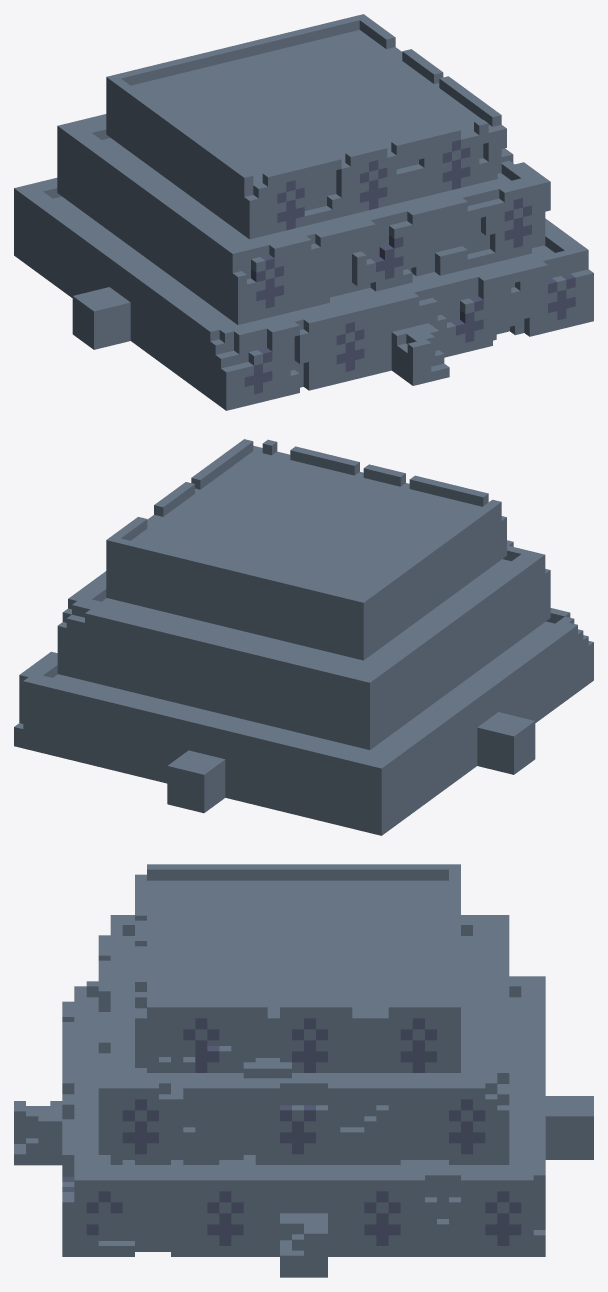
Rendered from Anubis_50-2.obj.
3 views of the same model, one above another, from view 1: azimuth 30°, elevation 25°; view 2: azimuth 150°, elevation 25°; view 3: azimuth 270°, elevation 25° (orthographic). The views are drawn at different scales.
Size of the model in its own units: 4.8 by 2 by 4.8.
Materials: 1 (1 with a texture image).
